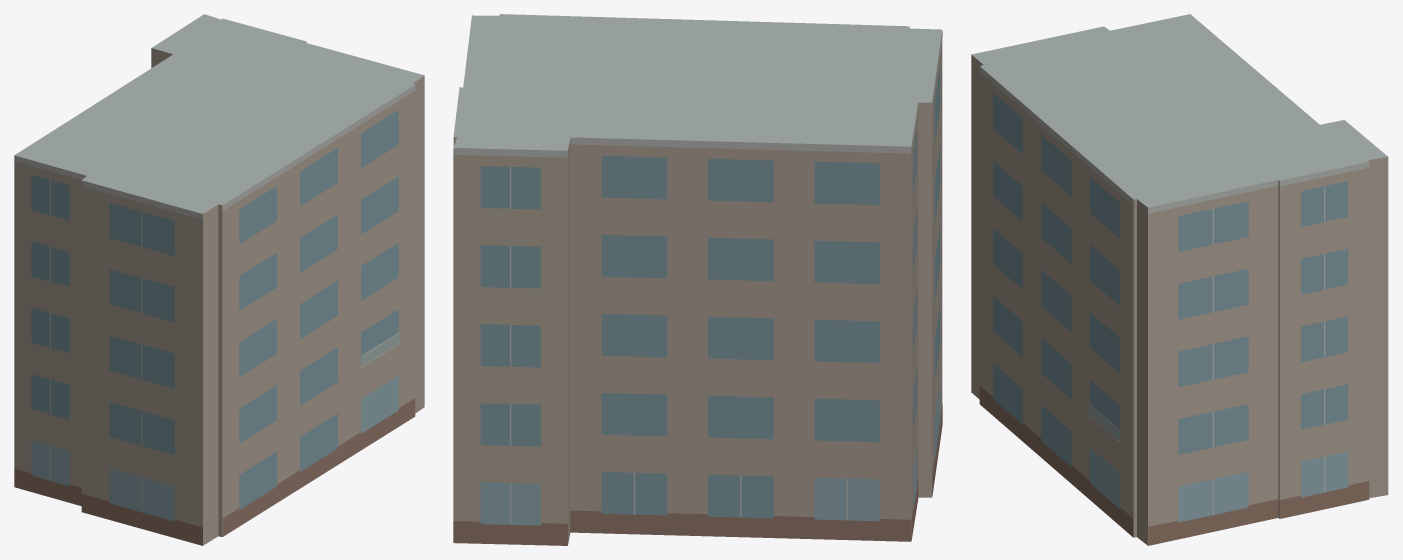
File: survey-upis-32738295.glb
3 renders of one model, left to right at view 1: azimuth 30°, elevation 25°; view 2: azimuth 150°, elevation 25°; view 3: azimuth 270°, elevation 25°, orthographic. The views are drawn at different scales.
Visible parts, largest first — view 1: survey-upis-32738295.tmp; view 2: survey-upis-32738295.tmp; view 3: survey-upis-32738295.tmp.
Part boxes in pixels (bbox=[...]): survey-upis-32738295.tmp: bbox=[14, 14, 424, 545]; survey-upis-32738295.tmp: bbox=[453, 14, 942, 545]; survey-upis-32738295.tmp: bbox=[971, 14, 1388, 545].
Size of the model in its own units: 17.1 by 13.9 by 15.54.
